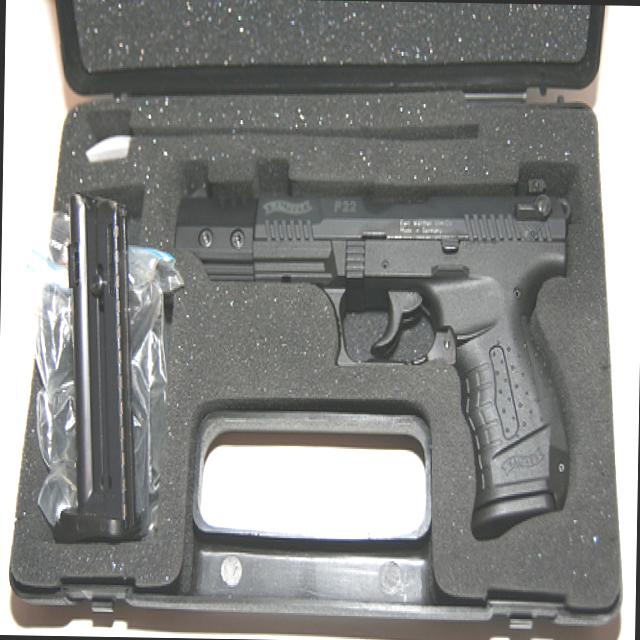handgun: (167, 165, 572, 542)
